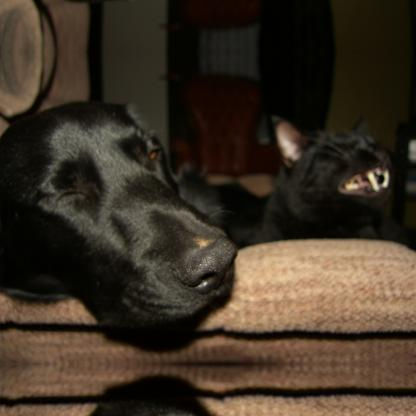Dog: (0, 102, 234, 334), (212, 112, 414, 248)
